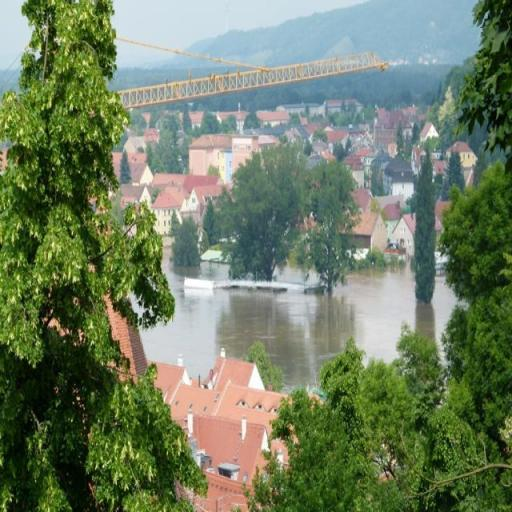flood: (142, 250, 458, 390)
house: (192, 412, 270, 480), (208, 381, 286, 429), (210, 357, 266, 397), (186, 133, 232, 180), (150, 362, 192, 406), (352, 214, 386, 252), (344, 147, 373, 185), (388, 155, 414, 196), (152, 190, 176, 234), (395, 212, 416, 258), (187, 186, 224, 208), (451, 142, 477, 169), (376, 112, 398, 142), (258, 108, 292, 125), (131, 161, 154, 185), (153, 171, 187, 187), (280, 103, 322, 115), (325, 99, 362, 112), (216, 111, 250, 124), (420, 122, 439, 144), (124, 135, 148, 152), (330, 129, 349, 144)
